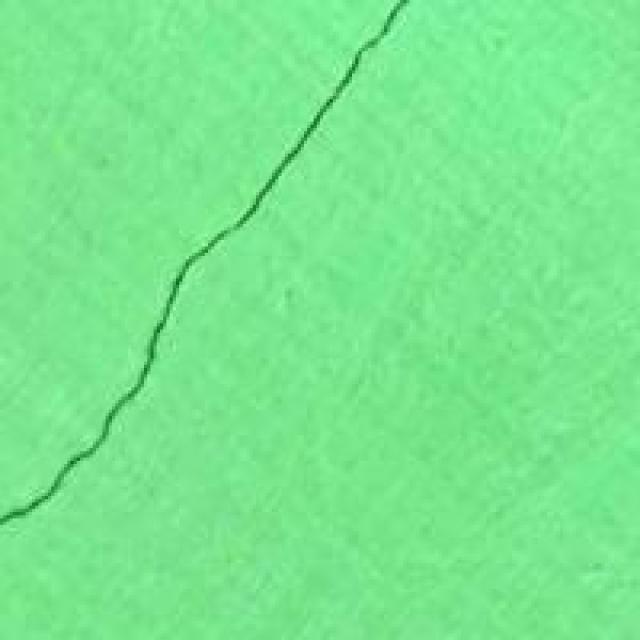crack: (6, 3, 458, 541)
